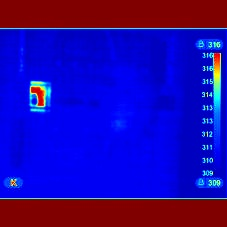High: (28, 84, 47, 110)
